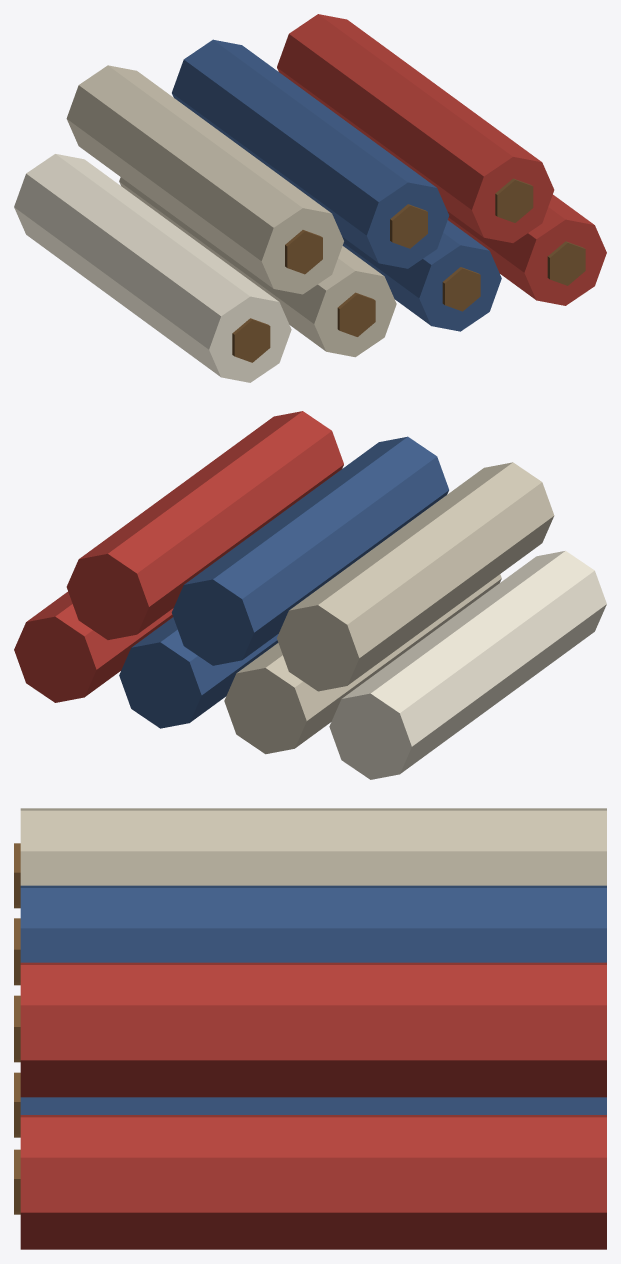
File: pile_linen_2.glb
3 views of the same model, one above another, from view 1: azimuth 30°, elevation 25°; view 2: azimuth 150°, elevation 25°; view 3: azimuth 270°, elevation 25° (orthographic). The views are drawn at different scales.
Parts seen in each view (by area): view 1: pile_linen_2; view 2: pile_linen_2; view 3: pile_linen_2.
Part boxes in pixels (x1,y1,x2,y2): pile_linen_2: [14, 14, 606, 382]; pile_linen_2: [14, 411, 606, 779]; pile_linen_2: [14, 808, 606, 1249].
Size of the model in its own units: 1.06 by 0.4125 by 0.91.
